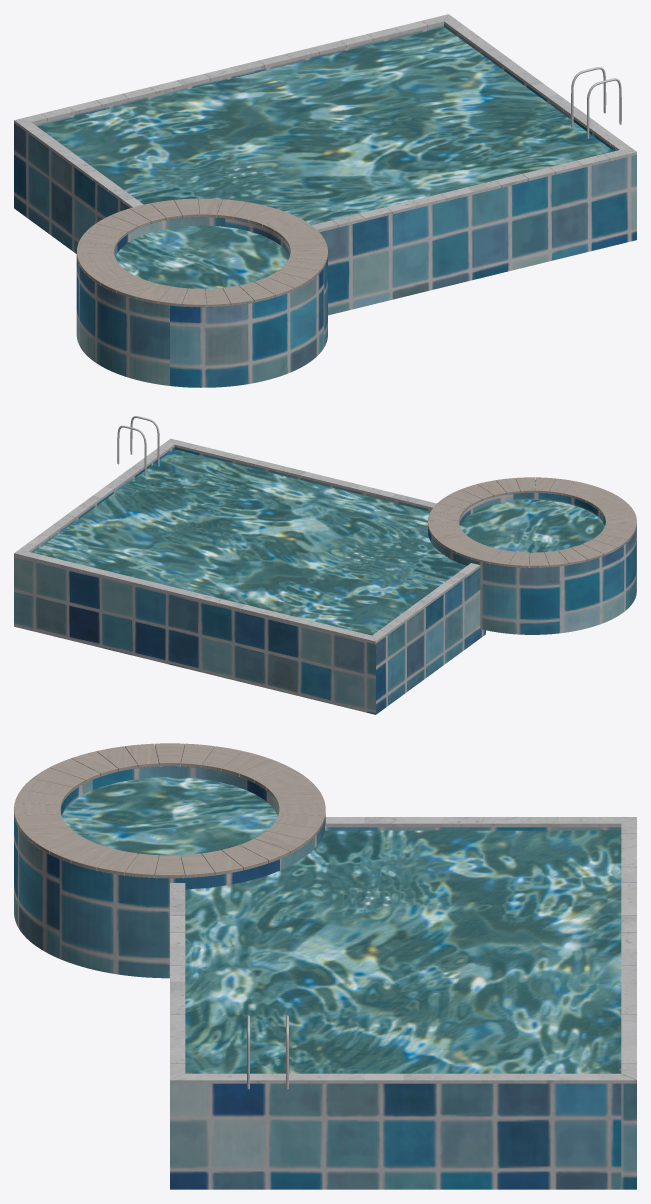
Rendered from Swiming Pool.fbx.
3 views of the same model, one above another, from view 1: azimuth 30°, elevation 25°; view 2: azimuth 150°, elevation 25°; view 3: azimuth 270°, elevation 25° (orthographic). The views are drawn at different scales.
Parts seen in each view (by area): view 1: SPA_Exterior_Swimming_Pool.Shape; view 2: SPA_Exterior_Swimming_Pool.Shape; view 3: SPA_Exterior_Swimming_Pool.Shape.
Boxes of the visible parts, x1,y1,x2,y2 form: SPA_Exterior_Swimming_Pool.Shape: [14, 14, 636, 387]; SPA_Exterior_Swimming_Pool.Shape: [14, 416, 636, 714]; SPA_Exterior_Swimming_Pool.Shape: [14, 743, 636, 1189].
Size of the model in its own units: 1030 by 240 by 800.
9 materials, 4 textured.
